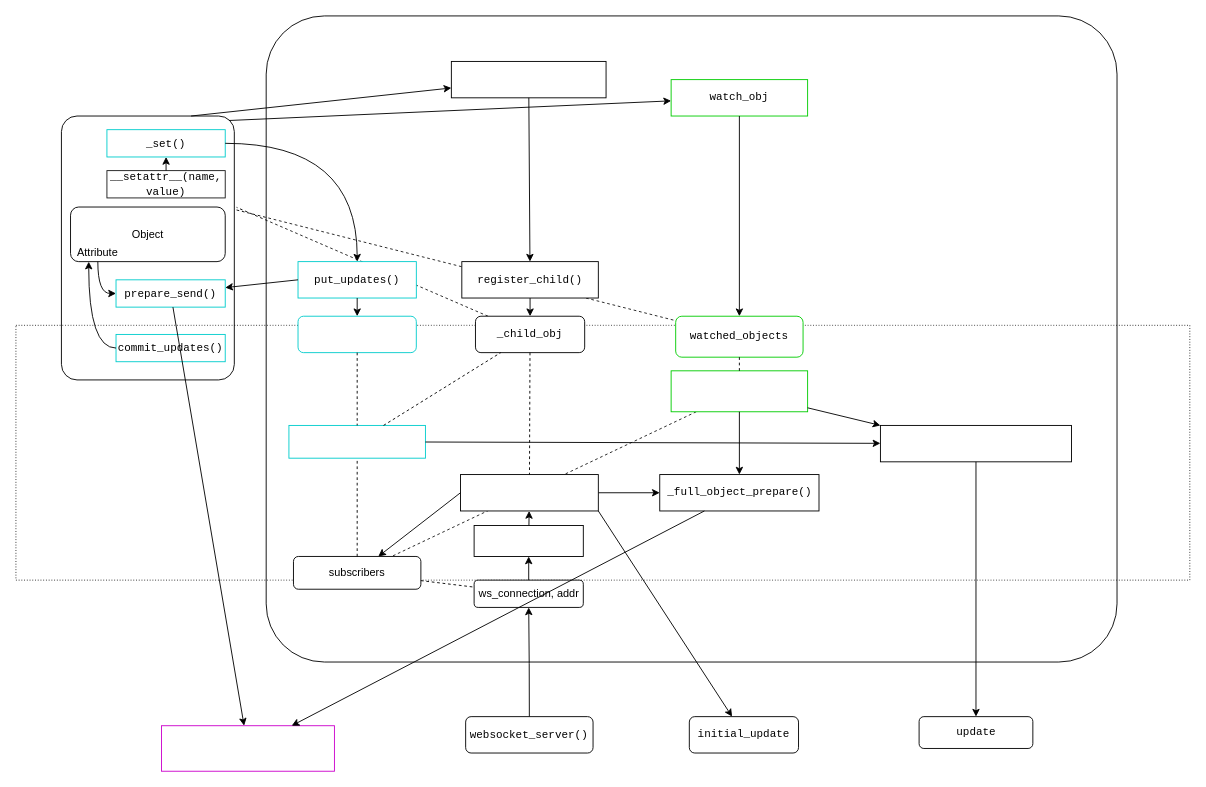
Image size: 1206x787. Some labels were removed from this diagram. The shapes that lost their labels are listed below. From the top down, each one's centre as x and y in pixels, then its label:
the point at 528,79: .vars.__setattr__()
the point at 356,334: _children_updates
the point at 739,391: _poll_objects()
the point at 356,441: monitor_updates()
the point at 976,443: _send_message_to_ listeners()
the point at 529,492: _handle_obj_ref()
the point at 528,540: _handler()
the point at 247,748: interface.preprocess
